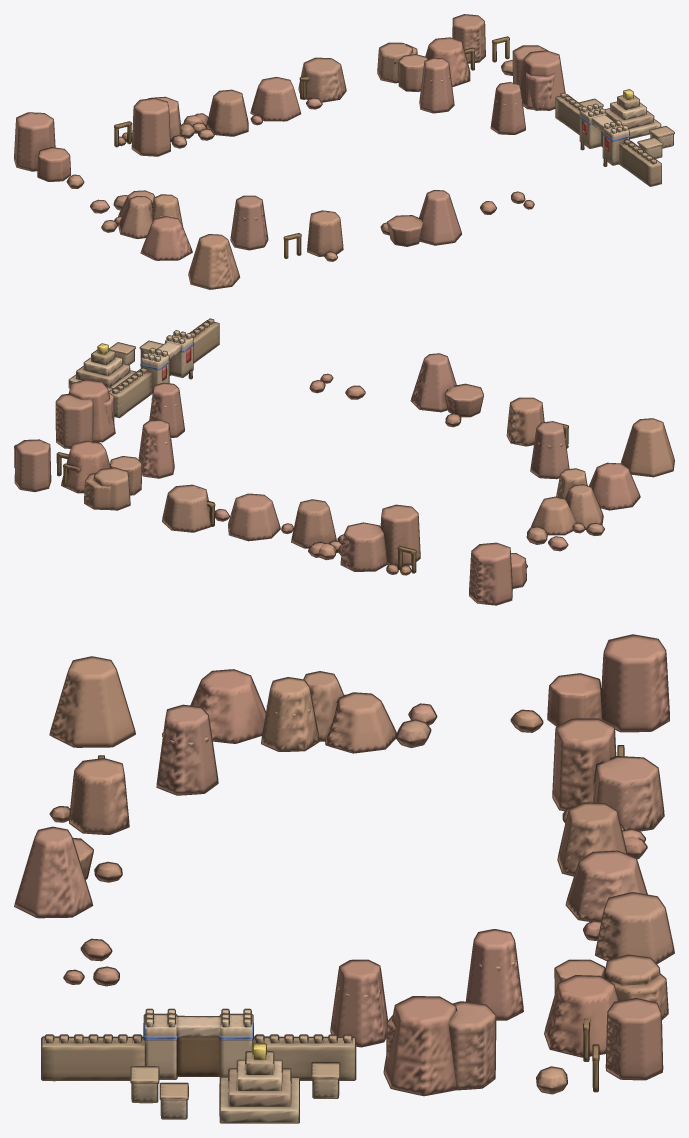
The model's file is copper_canyon.glb.
The picture shows the model from 3 angles, top to bottom: view 1: azimuth 30°, elevation 25°; view 2: azimuth 150°, elevation 25°; view 3: azimuth 270°, elevation 25°; orthographic projection. The views are drawn at different scales.
Visible parts, largest first — view 1: Baked_matte, Baked_matte_Outline; view 2: Baked_matte, Baked_matte_Outline; view 3: Baked_matte, Baked_matte_Outline.
Part boxes in pixels (x1,y1,x2,y2): Baked_matte: (14,14,674,289); Baked_matte_Outline: (14,14,674,289); Baked_matte: (14,319,674,604); Baked_matte_Outline: (14,318,674,605); Baked_matte: (15,635,673,1122); Baked_matte_Outline: (14,634,674,1123).
Size of the model in its own units: 40.78 by 3.59 by 27.04.
